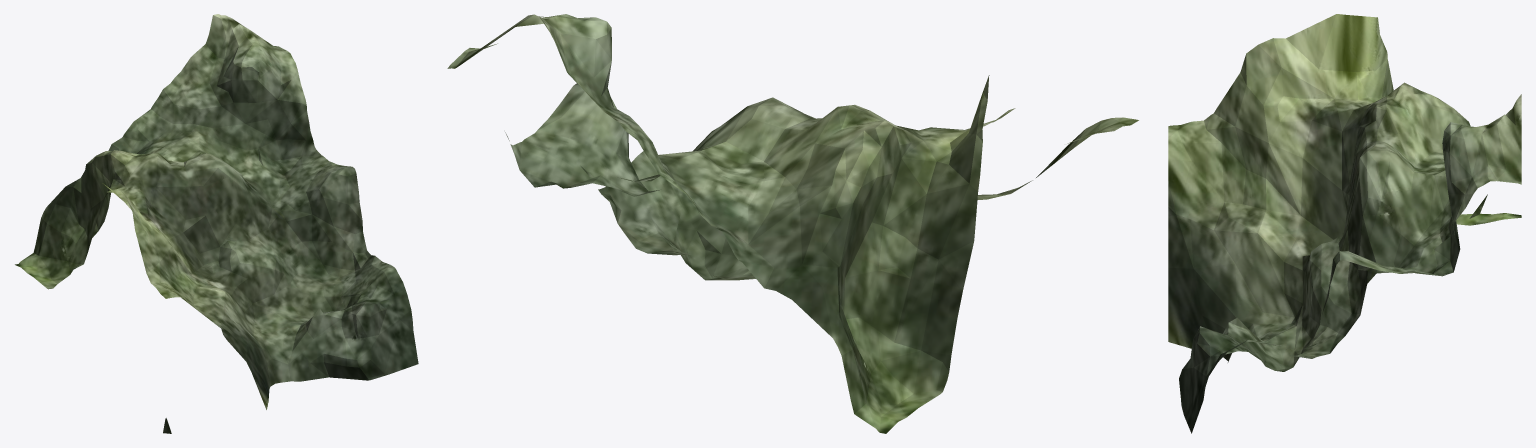
The picture shows the model from 3 angles, left to right: view 1: azimuth 30°, elevation 25°; view 2: azimuth 150°, elevation 25°; view 3: azimuth 270°, elevation 25°; orthographic projection. The views are drawn at different scales.
Bounding box in the file's own units: 2.95 × 2.8 × 2.95.
Materials: 4 (4 with a texture image).
